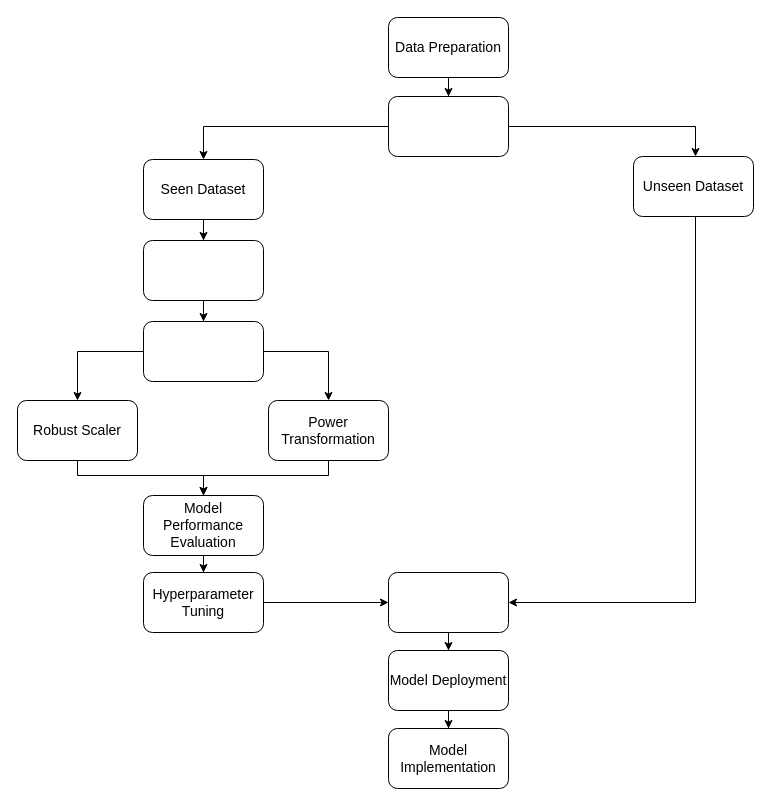
The diagram is 771 pixels wide and 806 high, and some of its shapes have lost their labels. The shapes that lost their labels are listed below. From the top down, each one's box as (x1, y1, x2, y2) in pixels, then its label:
(388, 96, 508, 156): Split Dataset
(142, 240, 264, 300): Exploratory Data Analysis
(142, 320, 264, 382): Feature Engineering
(388, 572, 508, 632): Final Evaluation
